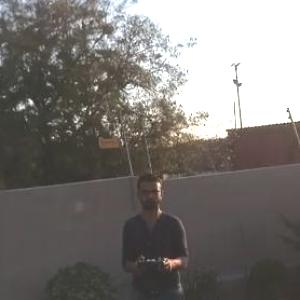follow: (115, 166, 196, 299)
